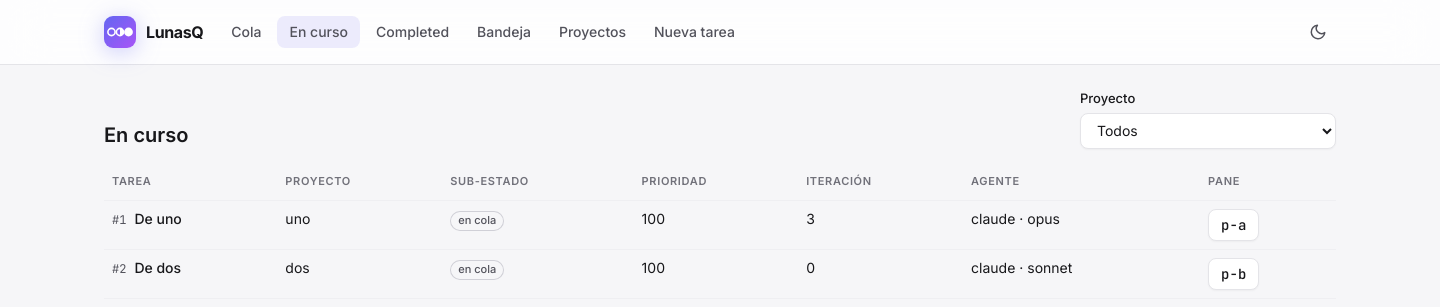
Test: pestaña En curso › columnas Iteración, Agente y Pane › al filtrar por proyecto cada fila conserva los valores de su propia tarea
Expected: the link "De dos" is shown, [134,258,181,278]
Select "uno" in the dropdown labelled "Proyecto" at (1208, 130), box [1080,112,1336,148]
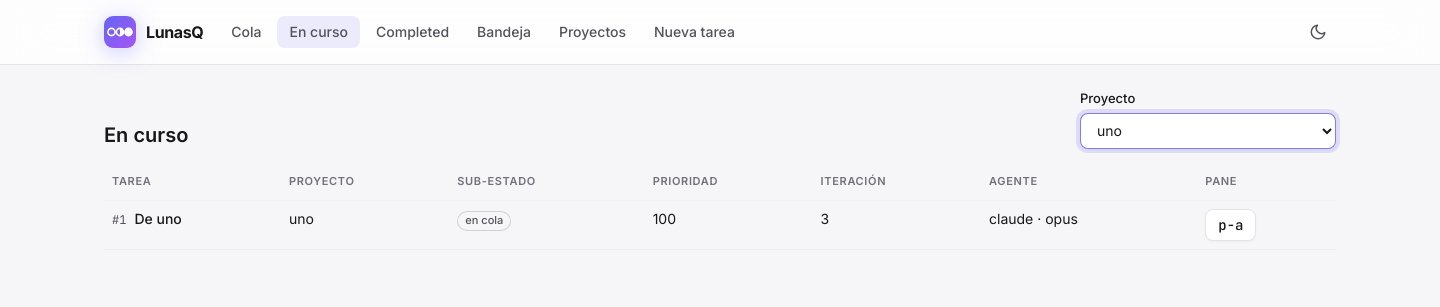
Expected: the link "De uno" is shown, [134,209,182,229]
Now the link "De dos" is gone
